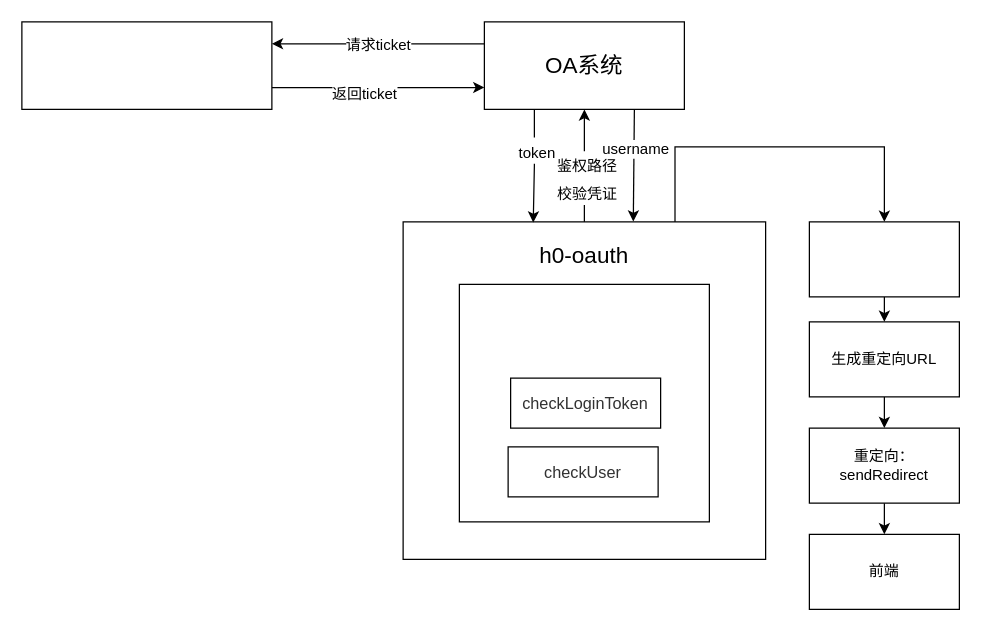
The diagram is 981 pixels wide and 631 high, and some of its shapes have lost their labels. The box of each missing label's shape, as (x1, y1, x2, y2) in pixels:
checkTicket (我方进行校验认证凭据，获取用户名): (458, 283, 709, 522)
uumslogin （统一用户管理系统登录）: (21, 21, 272, 109)
加载用户，创建UserDetails放入上下文: (808, 221, 959, 297)
